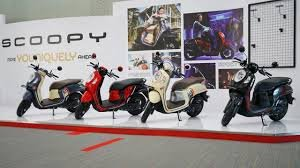motor: (226, 60, 296, 127), (143, 59, 210, 122), (81, 66, 144, 121), (17, 68, 84, 114)
